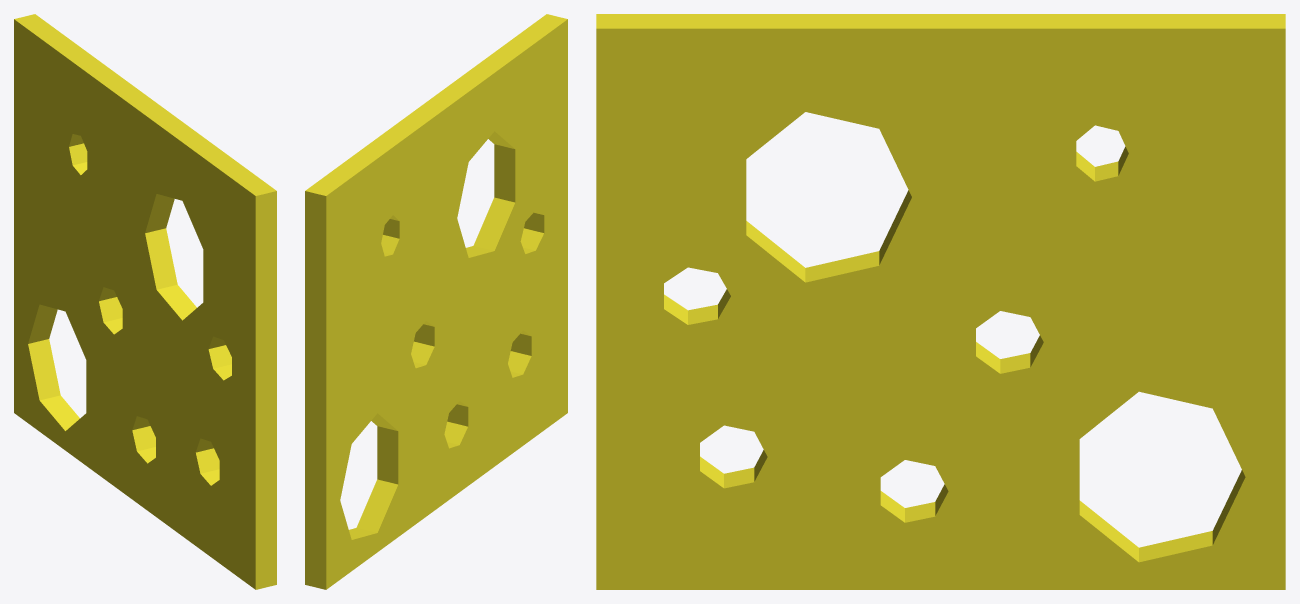
The model's file is Mini-Slice of CHEEESE.fbx.
3 views of the same model, side by side, from view 1: azimuth 30°, elevation 25°; view 2: azimuth 150°, elevation 25°; view 3: azimuth 270°, elevation 25° (orthographic). The views are drawn at different scales.
Visible parts, largest first — view 1: Cheese Slice; view 2: Cheese Slice; view 3: Cheese Slice.
Boxes of the visible parts, x1,y1,x2,y2 form: Cheese Slice: (14,14,276,589); Cheese Slice: (305,14,567,589); Cheese Slice: (596,14,1285,589).
Size of the model in its own units: 0.2638 by 4.69 by 5.22.
